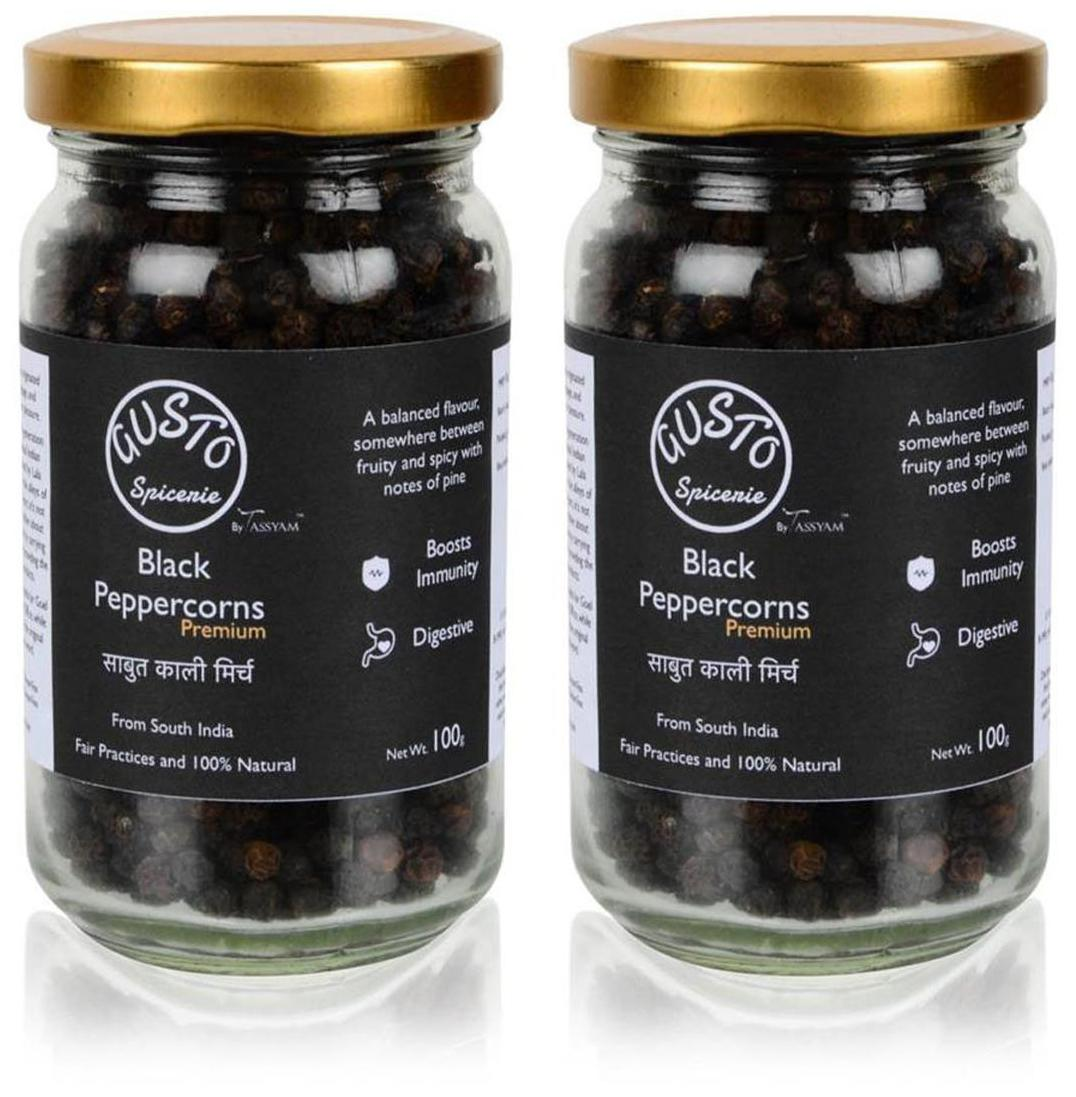JAR: (11, 8, 523, 986), (552, 8, 1066, 980)
